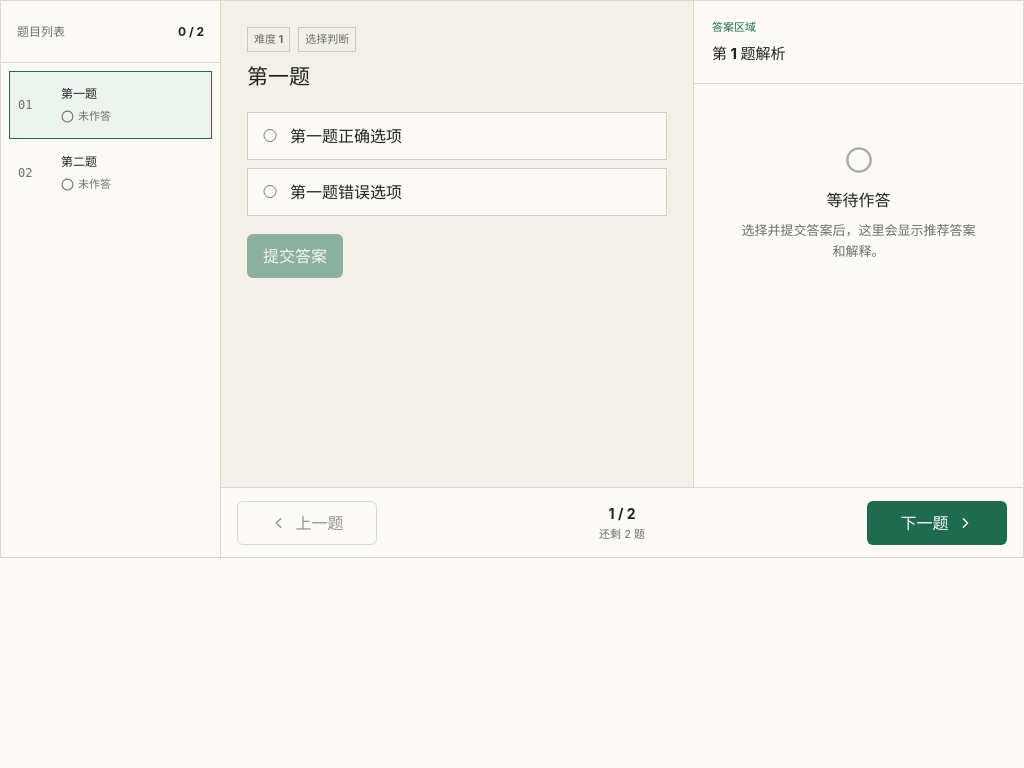
Scenario: SessionRunner › retains submitted feedback and records an answer once
Click the radio button labelled "第一题正确选项" at (270, 136), box [260,129,280,142]
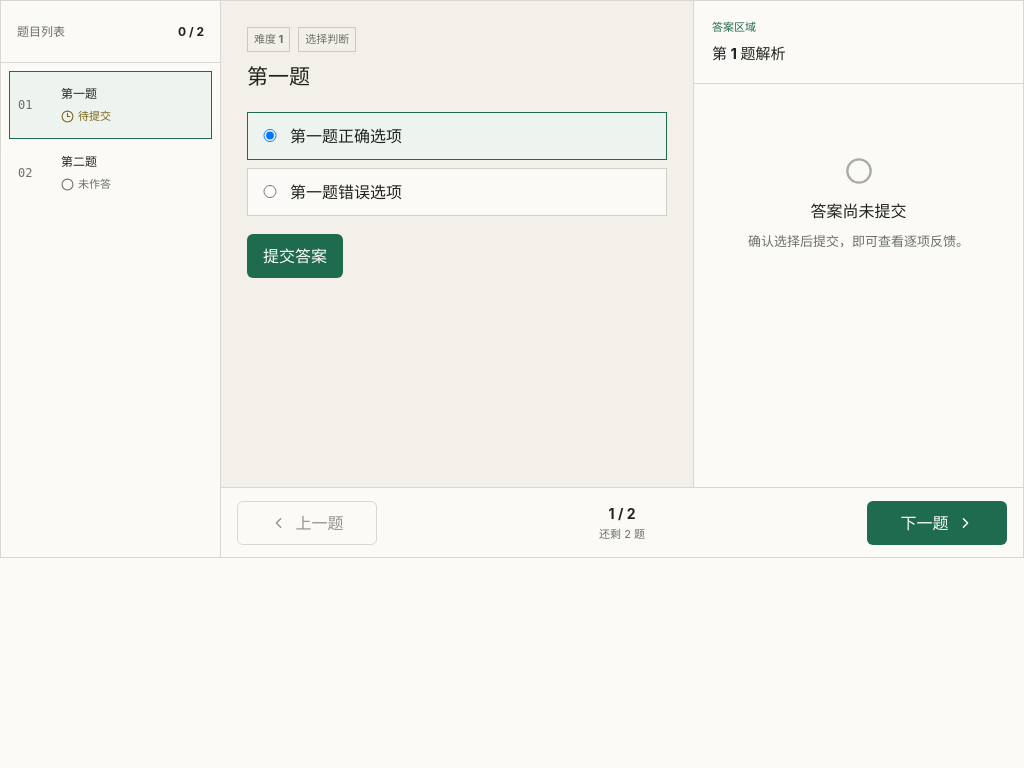
Click the button "提交答案" at (295, 256), box [247,234,343,278]
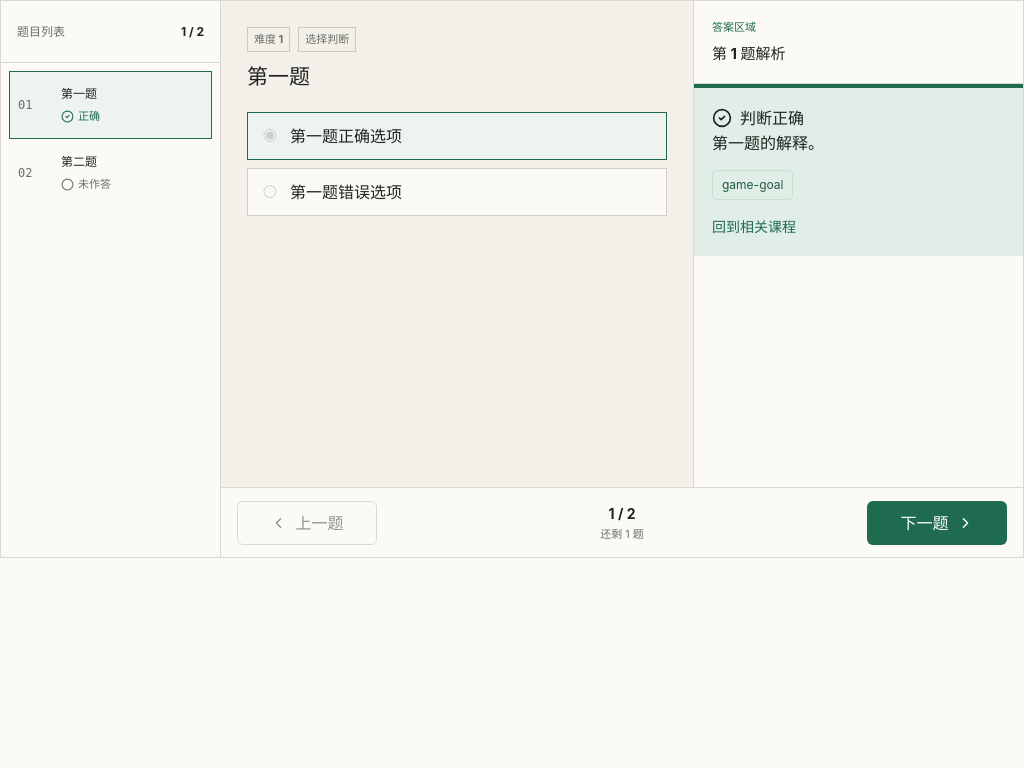
Now the message shows "判断正确", box [740,108,804,128]
Click the button with aria-label "第 2 题，未作答" at (110, 173), box [9,139,212,207]
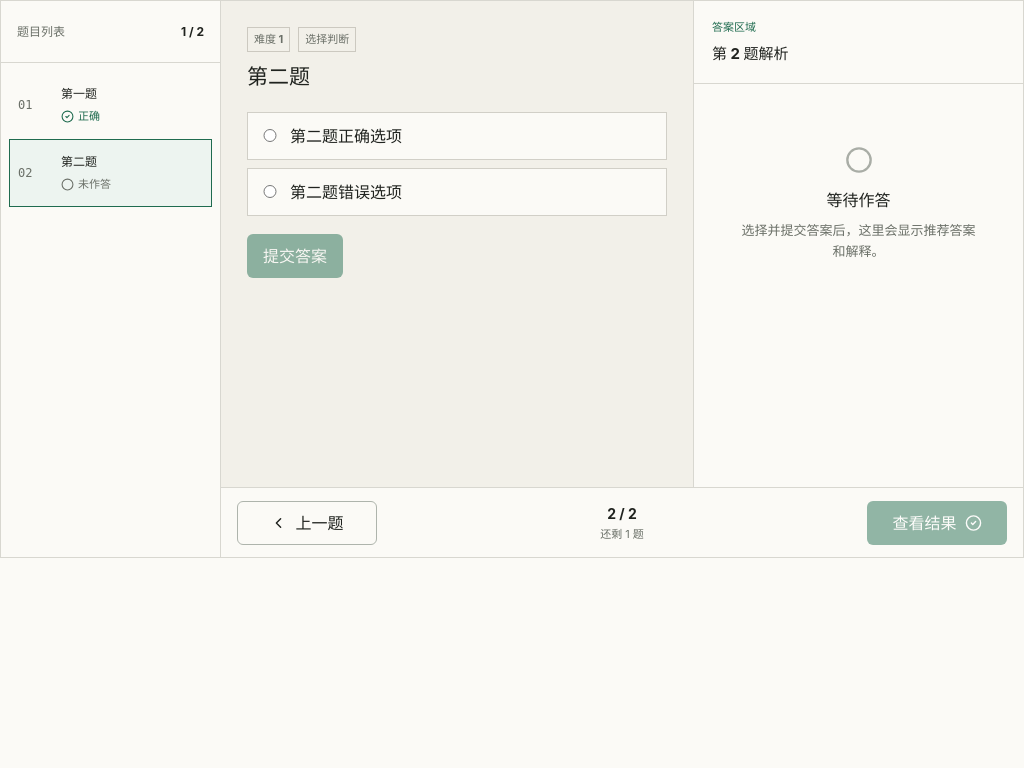
Click the button with aria-label "第 1 题，正确" at (110, 105), box [9,71,212,139]
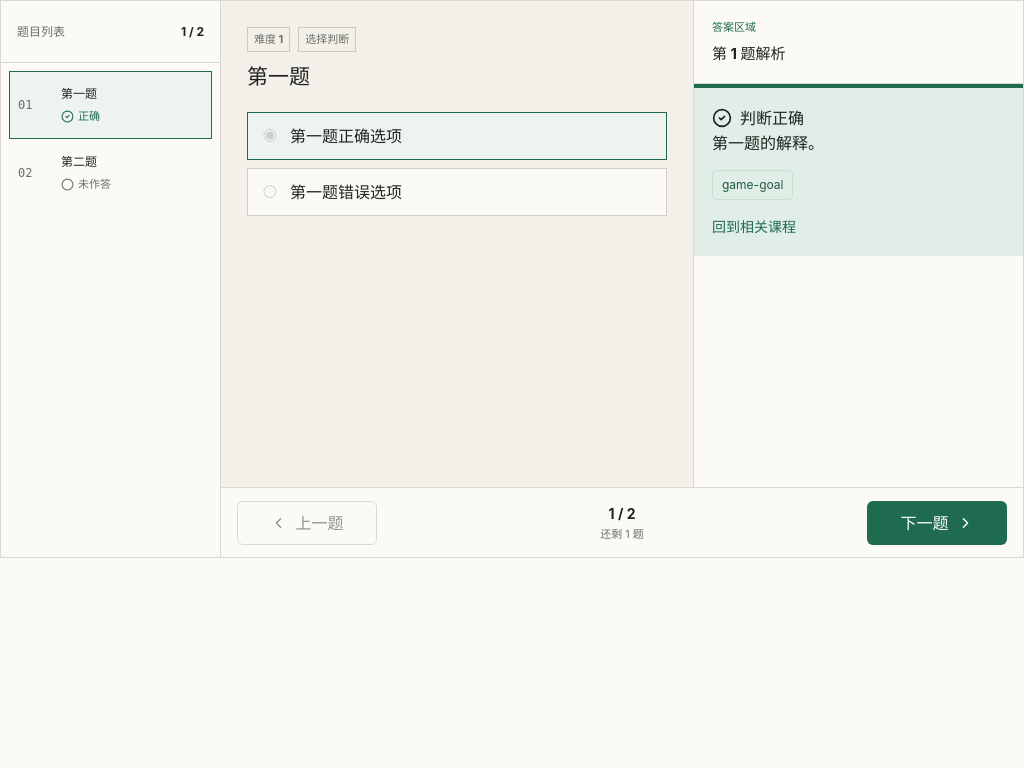
Now the message shows "第一题的解释", box [712,133,824,153]
Now the button "提交答案" is gone
